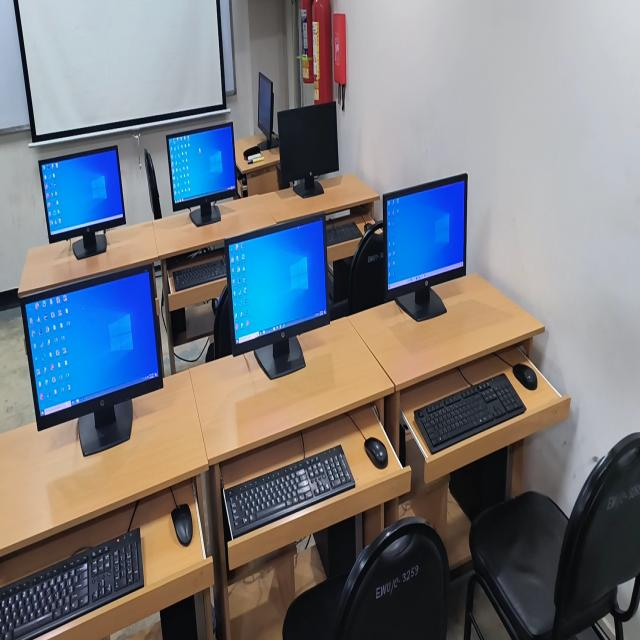Chair: (464, 433, 640, 639), (331, 519, 449, 639), (283, 573, 348, 639), (348, 222, 387, 313), (213, 287, 231, 359), (145, 149, 162, 219)
Fire Extinguisher: (308, 0, 332, 103), (300, 0, 313, 84)
Keyboard: (0, 529, 144, 639), (223, 445, 355, 539), (414, 374, 526, 454), (173, 257, 226, 290), (326, 222, 362, 247)
Monitor: (20, 263, 163, 446), (225, 215, 329, 379), (382, 174, 467, 321), (39, 146, 126, 258), (167, 122, 236, 226), (278, 103, 338, 197), (258, 73, 273, 139)
Mouse: (171, 504, 193, 546), (365, 437, 388, 469), (513, 364, 537, 390), (364, 222, 376, 232)
